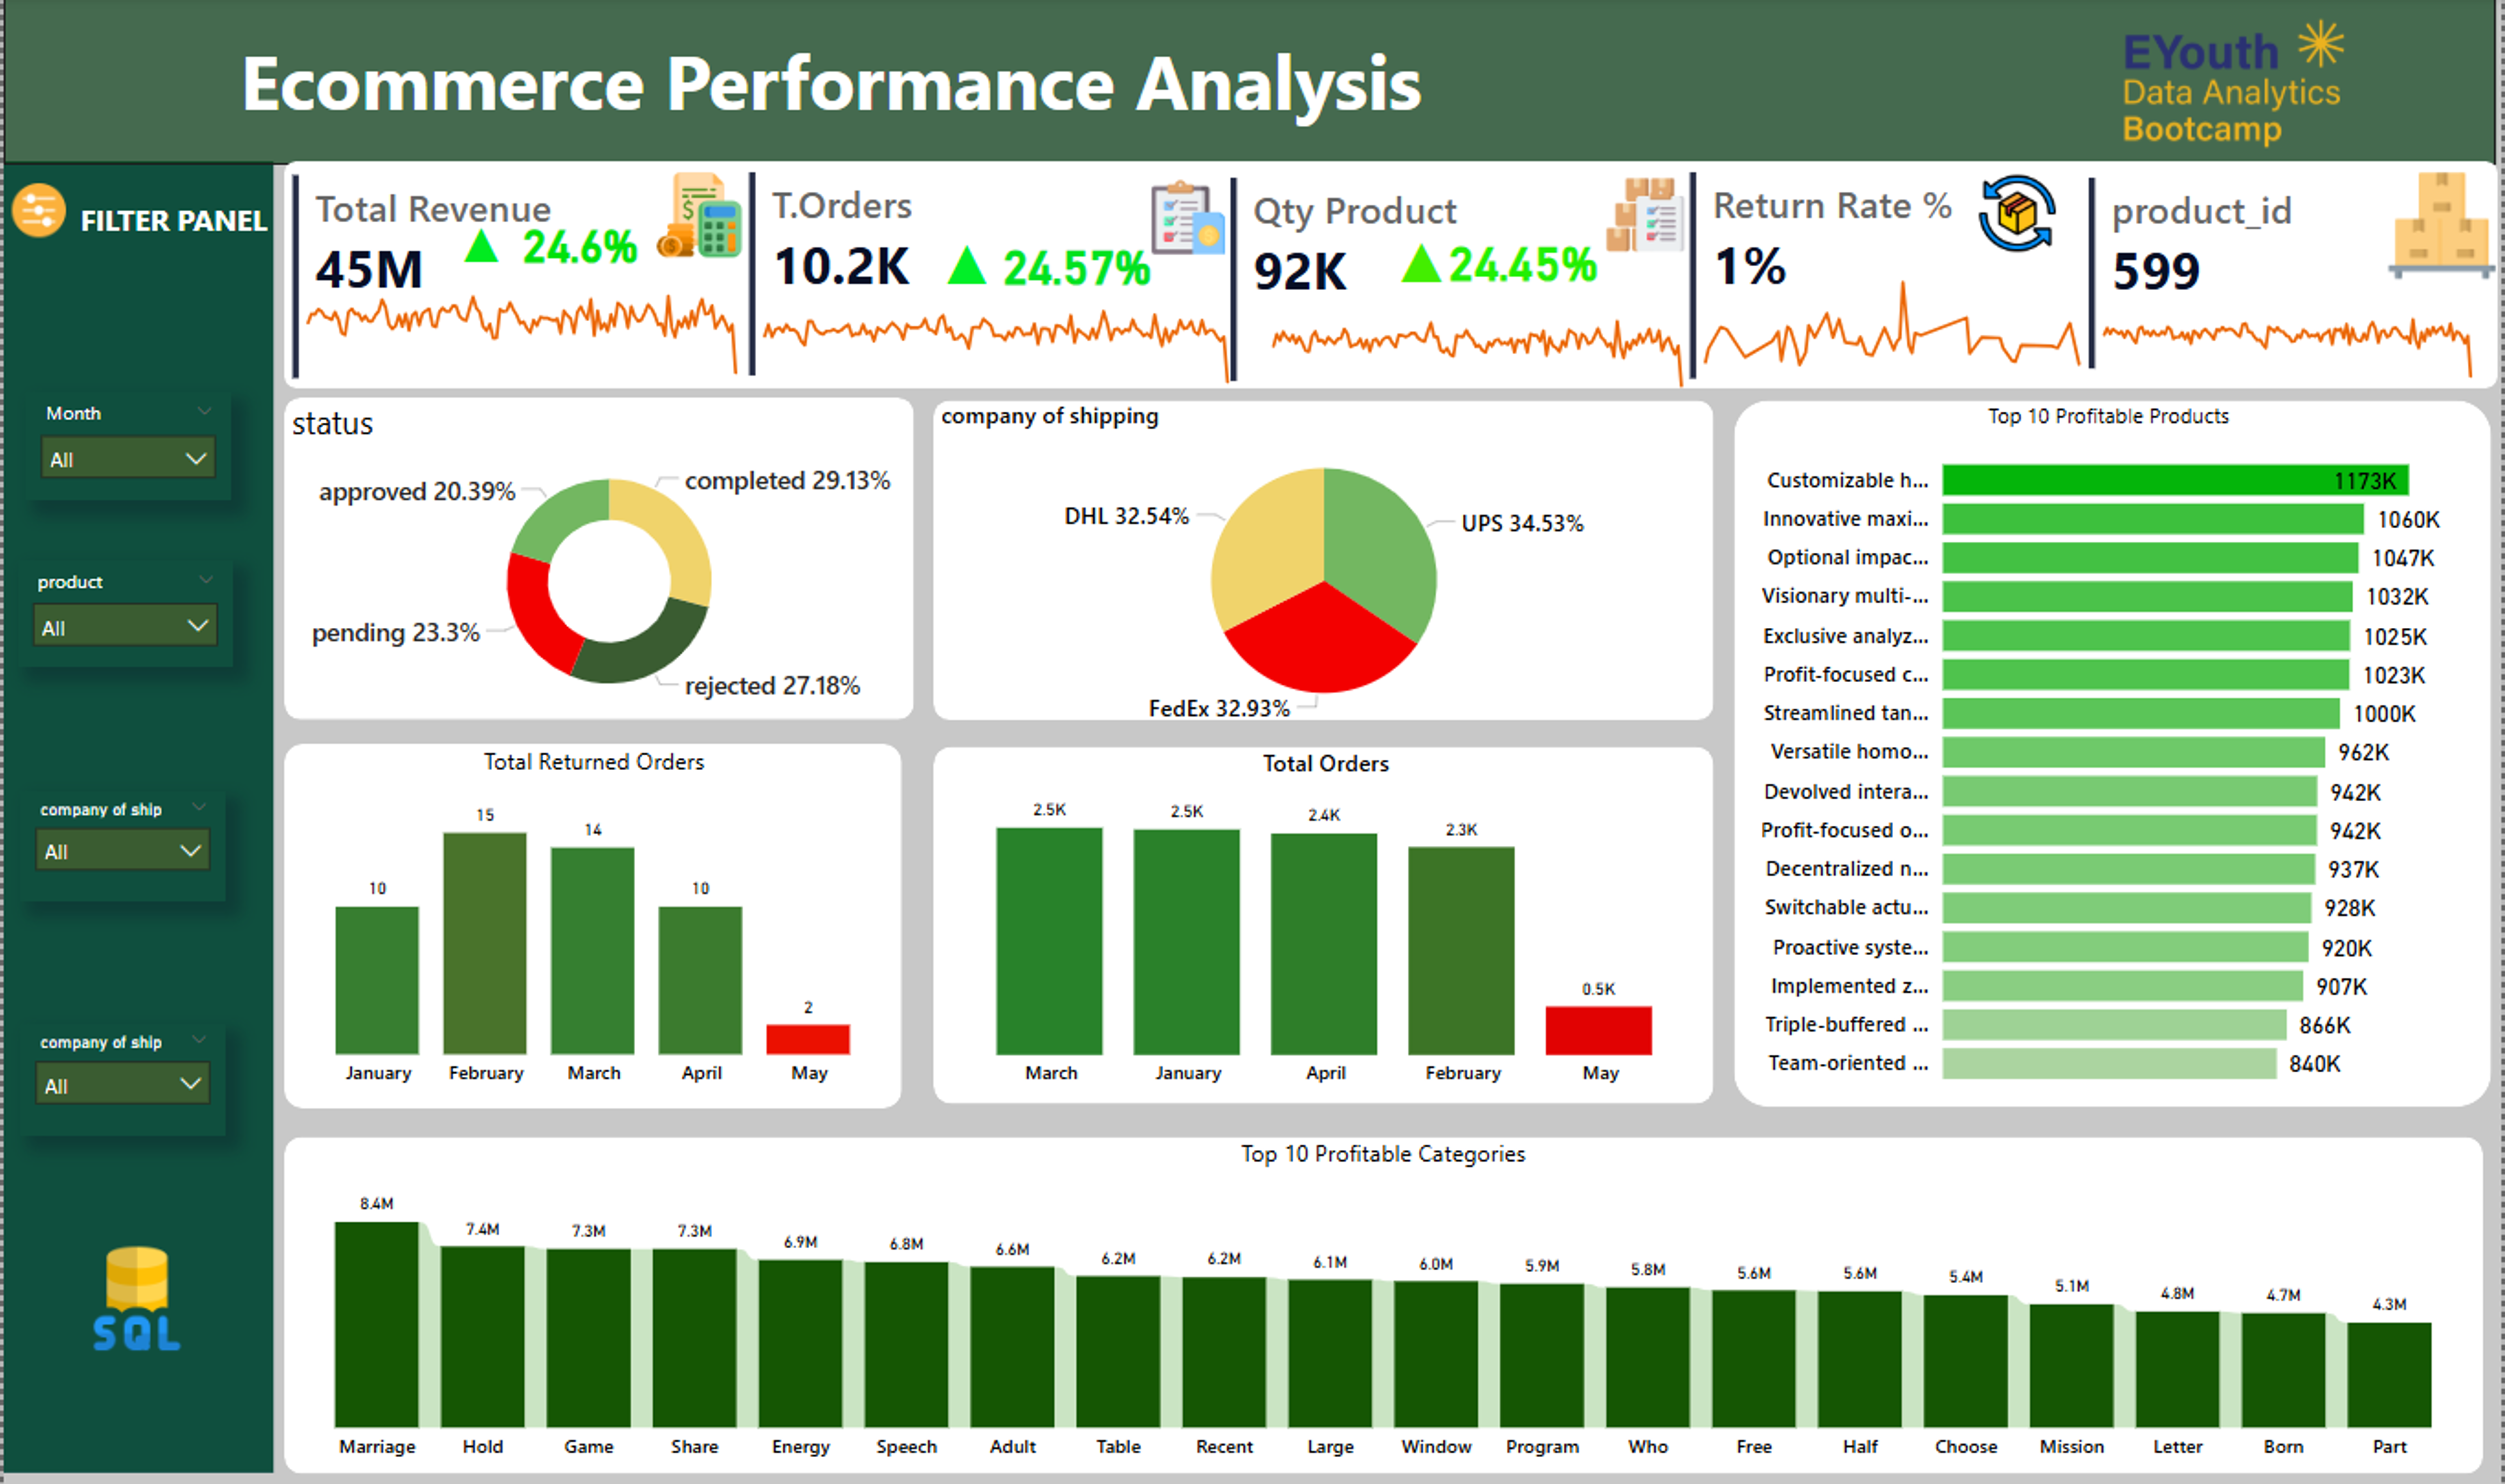

The dashboard page shown, as its layout file describes it:
{"tool":"powerbi","page":{"name":"Ecommerce Performance Analysis","canvas":[1605,959],"ordinal":0},"visuals":[{"type":"shape","box":[0,106.1,173.5,843.6],"z":0},{"type":"shape","box":[0,0,1601.4,108.2],"z":1000},{"type":"shape","box":[180,106.1,1422.1,146.2],"z":2000},{"type":"shape","box":[180,258.7,404.9,207.3],"z":3000},{"type":"shape","box":[1112,260.3,486.9,454.8],"z":4000},{"type":"shape","box":[180,732.8,1412.5,216.9],"z":5000},{"type":"card","fields":{"Values":["_Measures.MoM Revenue Growth %"]},"box":[318.3,136.7,105,45],"z":6000},{"type":"card","fields":{"Values":["_Measures.Trend Icon"]},"box":[267.4,140.1,79.6,38.2],"z":7000},{"type":"cardVisual","fields":{"Data":["_Measures.Total Revenue"]},"box":[180,109.3,255.5,141.4],"z":8000},{"type":"areaChart","fields":{"Y":["_Measures.Total Revenue"],"Category":["Calender.Date Hierarchy.Date"]},"box":[180,176.8,305.3,73.9],"z":9000},{"type":"slicer","fields":{"Values":["Calender.Month"]},"box":[14.3,254.7,132.1,70],"z":10000},{"type":"cardVisual","fields":{"Data":["_Measures.T.Orders"]},"box":[472.8,108.2,192.6,141.7],"z":11000},{"type":"areaChart","fields":{"Category":["Calender.Date Hierarchy.Date"],"Y":["_Measures.T.Orders"]},"box":[472.8,181.5,327.9,73.2],"z":12000},{"type":"shape","box":[180,480.5,396.9,234.6],"z":13000},{"type":"clusteredBarChart","title":"Top 10 Profitable Products ","fields":{"Category":["Dim Products.name"],"Y":["_Measures.Total Revenue"]},"box":[1112,260.3,482.1,451.5],"z":14000},{"type":"donutChart","title":" status","fields":{"Y":["CountNonNull(Dim Returns.id)"],"Category":["Dim Returns.status"]},"box":[180,260.3,417.8,205.7],"z":15000},{"type":"clusteredColumnChart","title":"Total Returned Orders","fields":{"Category":["Dim Orders Status.Order_MonthName"],"Y":["_Measures.Returned Count"]},"box":[180,480.5,398.5,229.8],"z":16000},{"type":"shape","box":[597.8,260.3,501.4,205.7],"z":17000},{"type":"shape","box":[597.8,482.1,501.4,229.8],"z":18000},{"type":"clusteredColumnChart","title":"Total Orders ","fields":{"Y":["_Measures.T.Orders"],"Category":["Dim Orders Status.Order_MonthName"]},"box":[597.8,482.1,504.6,228.2],"z":19000},{"type":"cardVisual","fields":{"Data":["_Measures.Return Rate %"]},"box":[1077.7,108.2,237.2,143.3],"z":20000},{"type":"columnChart","title":"Top 10 Profitable Categories","fields":{"Category":["Dim Categories.name"],"Y":["_Measures.Total Revenue"]},"box":[180,732.8,1412.5,216.9],"z":21000},{"type":"areaChart","fields":{"Category":["Calender.Date"],"Y":["_Measures.Return Rate %"]},"box":[1077.7,159.2,270.6,84.4],"z":22000},{"type":"cardVisual","fields":{"Data":["_Measures.Qty Orders Product"]},"box":[783.2,111.4,320,141.7],"z":23000},{"type":"areaChart","fields":{"Category":["Calender.Date"],"Y":["_Measures.Qty Orders Product"]},"box":[800.2,186.4,292.5,72.3],"z":24000},{"type":"textbox","box":[146.4,15.9,877.1,78],"z":25000},{"type":"card","fields":{"Values":["_Measures.Order Growth %"]},"box":[636.7,138.5,106.7,68.4],"z":26000},{"type":"card","fields":{"Values":["_Measures.Trend Icon Orders"]},"box":[590.6,136.9,57.3,68.4],"z":27000},{"type":"card","fields":{"Values":["_Measures.Qty Growth %"]},"box":[901,148,149.6,43],"z":28000},{"type":"card","fields":{"Values":["_Measures.Trend Icon Qty"]},"box":[872.3,146.4,74.8,44.6],"z":29000},{"type":"cardVisual","fields":{"Data":["Count(Fac Order Details.product_id)"]},"box":[1333.7,110.9,268.4,133.4],"z":30000},{"type":"areaChart","fields":{"Category":["Calender.Date Hierarchy.Date"],"Y":["Count(Fac Order Details.product_id)"]},"box":[1334,178.3,265.8,73.2],"z":31000},{"type":"pieChart","title":"company of shipping","fields":{"Y":["CountNonNull(Dim Shipping.id)"],"Category":["Dim Shipping.carrier"]},"box":[597.8,258.7,501.4,215.3],"z":32000},{"type":"slicer","fields":{"Values":["Dim Shipping.company of shipping"]},"box":[11.1,660.6,132.1,71.6],"z":33000},{"type":"slicer","fields":{"Values":["Dim Shipping.company of shipping"]},"box":[11.1,511,132.1,71.6],"z":34000},{"type":"slicer","fields":{"Values":["Dim Products.name"]},"box":[8,362.9,138.5,68.4],"z":35000},{"type":"image","box":[1265.5,0,334.3,113],"z":36000},{"type":"image","box":[407.5,108.2,78,65.3],"z":37000},{"type":"image","box":[1010.8,108.2,87.6,65.3],"z":38000},{"type":"image","box":[0,114.1,45,45],"z":39000},{"type":"textbox","box":[45,125.3,157.5,45],"z":40000},{"type":"image","box":[721.5,110.9,80.3,61.1],"z":41000},{"type":"image","box":[1232.5,109.3,123.7,59.5],"z":42000},{"type":"image","box":[1526.6,107.7,78.7,78.7],"z":43000},{"type":"image","box":[12.9,798.6,146.2,77.1],"z":44000}]}

Visuals, with their boxes in screenshot pixels (x1, y1, x2, y2), scaled from the page's 1605x959 canvas onto the 2505x1484 screenshot:
shape: crop(0, 164, 271, 1469)
shape: crop(0, 0, 2499, 167)
shape: crop(281, 164, 2500, 391)
shape: crop(281, 400, 913, 721)
shape: crop(1736, 403, 2496, 1106)
shape: crop(281, 1134, 2485, 1469)
card - _Measures.MoM Revenue Growth %: crop(497, 211, 660, 281)
card - _Measures.Trend Icon: crop(417, 217, 542, 276)
cardVisual - _Measures.Total Revenue: crop(281, 169, 680, 388)
areaChart - _Measures.Total Revenue x Calender.Date Hierarchy.Date: crop(281, 273, 757, 388)
slicer - Calender.Month: crop(22, 394, 228, 502)
cardVisual - _Measures.T.Orders: crop(738, 167, 1039, 387)
areaChart - Calender.Date Hierarchy.Date x _Measures.T.Orders: crop(738, 281, 1250, 394)
shape: crop(281, 743, 900, 1106)
"Top 10 Profitable Products " clusteredBarChart: crop(1736, 403, 2488, 1101)
" status" donutChart: crop(281, 403, 933, 721)
"Total Returned Orders" clusteredColumnChart: crop(281, 743, 903, 1099)
shape: crop(933, 403, 1716, 721)
shape: crop(933, 746, 1716, 1102)
"Total Orders " clusteredColumnChart: crop(933, 746, 1721, 1099)
cardVisual - _Measures.Return Rate %: crop(1682, 167, 2052, 389)
"Top 10 Profitable Categories" columnChart: crop(281, 1134, 2485, 1469)
areaChart - Calender.Date x _Measures.Return Rate %: crop(1682, 247, 2105, 377)
cardVisual - _Measures.Qty Orders Product: crop(1222, 172, 1722, 392)
areaChart - Calender.Date x _Measures.Qty Orders Product: crop(1249, 289, 1705, 400)
textbox: crop(228, 25, 1597, 146)
card - _Measures.Order Growth %: crop(994, 214, 1160, 320)
card - _Measures.Trend Icon Orders: crop(922, 212, 1011, 318)
card - _Measures.Qty Growth %: crop(1406, 229, 1640, 296)
card - _Measures.Trend Icon Qty: crop(1361, 226, 1478, 296)
cardVisual - Count(Fac Order Details.product_id): crop(2082, 171, 2500, 378)
areaChart - Calender.Date Hierarchy.Date x Count(Fac Order Details.product_id): crop(2082, 276, 2497, 389)
"company of shipping" pieChart: crop(933, 400, 1716, 733)
slicer - Dim Shipping.company of shipping: crop(17, 1022, 223, 1133)
slicer - Dim Shipping.company of shipping: crop(17, 791, 223, 902)
slicer - Dim Products.name: crop(12, 561, 228, 668)
image: crop(1975, 0, 2497, 175)
image: crop(636, 167, 758, 268)
image: crop(1578, 167, 1715, 268)
image: crop(0, 177, 70, 246)
textbox: crop(70, 194, 316, 264)
image: crop(1126, 171, 1251, 266)
image: crop(1924, 169, 2117, 261)
image: crop(2383, 167, 2504, 289)
image: crop(20, 1236, 248, 1355)
